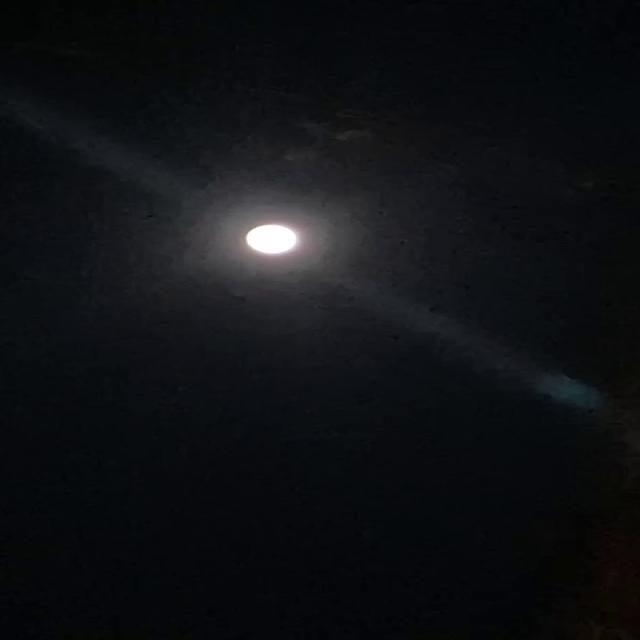moon: (185, 198, 312, 269)
